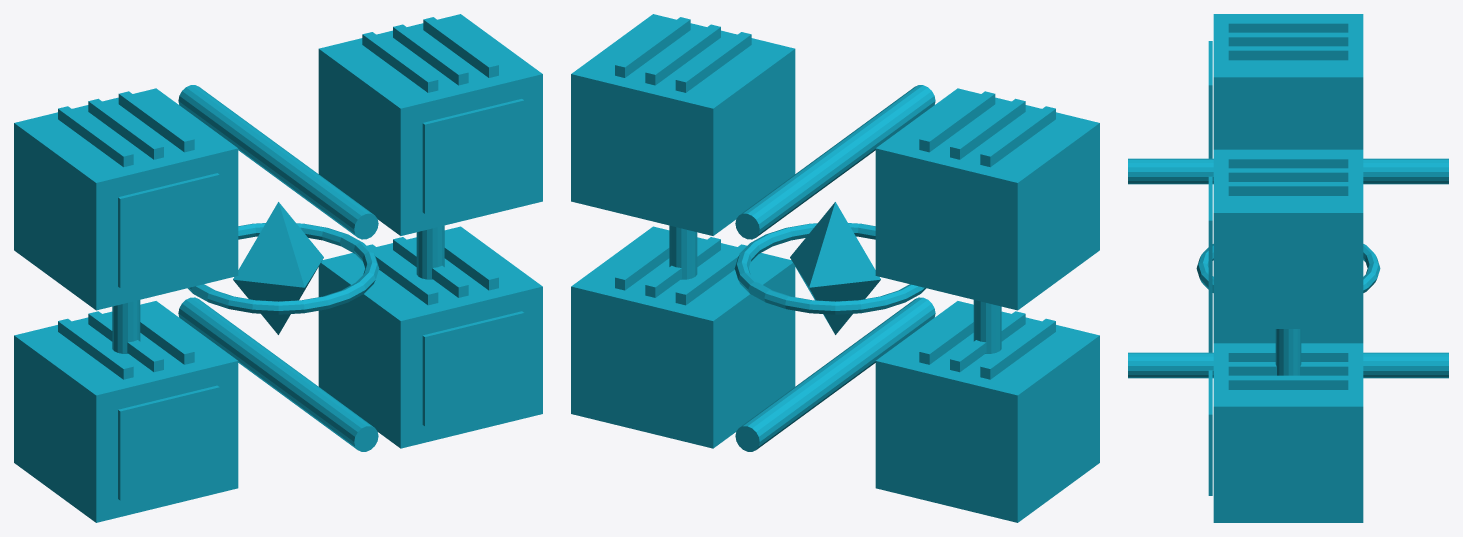
Rendered from tech-matrix.obj.
3 views of the same model, side by side, from view 1: azimuth 30°, elevation 25°; view 2: azimuth 150°, elevation 25°; view 3: azimuth 270°, elevation 25° (orthographic). The views are drawn at different scales.
Parts seen in each view (by area): view 1: TechMatrix; view 2: TechMatrix; view 3: TechMatrix.
Part boxes in pixels (x1,y1,x2,y2): TechMatrix: [14, 14, 542, 522]; TechMatrix: [571, 14, 1099, 522]; TechMatrix: [1128, 14, 1448, 522].
Bounding box in the file's own units: 4.4 × 3.31 × 3.
